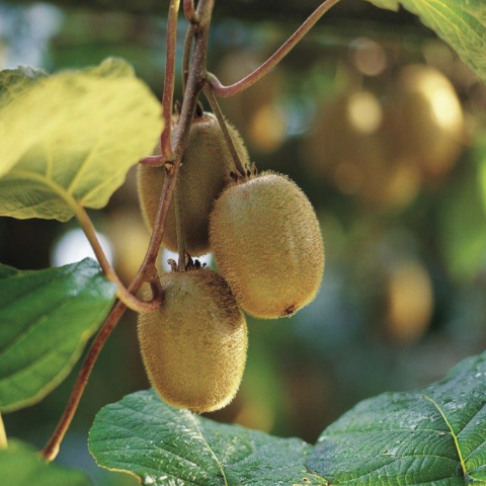kiwi: (128, 252, 266, 415), (138, 105, 260, 268), (205, 167, 334, 320)
